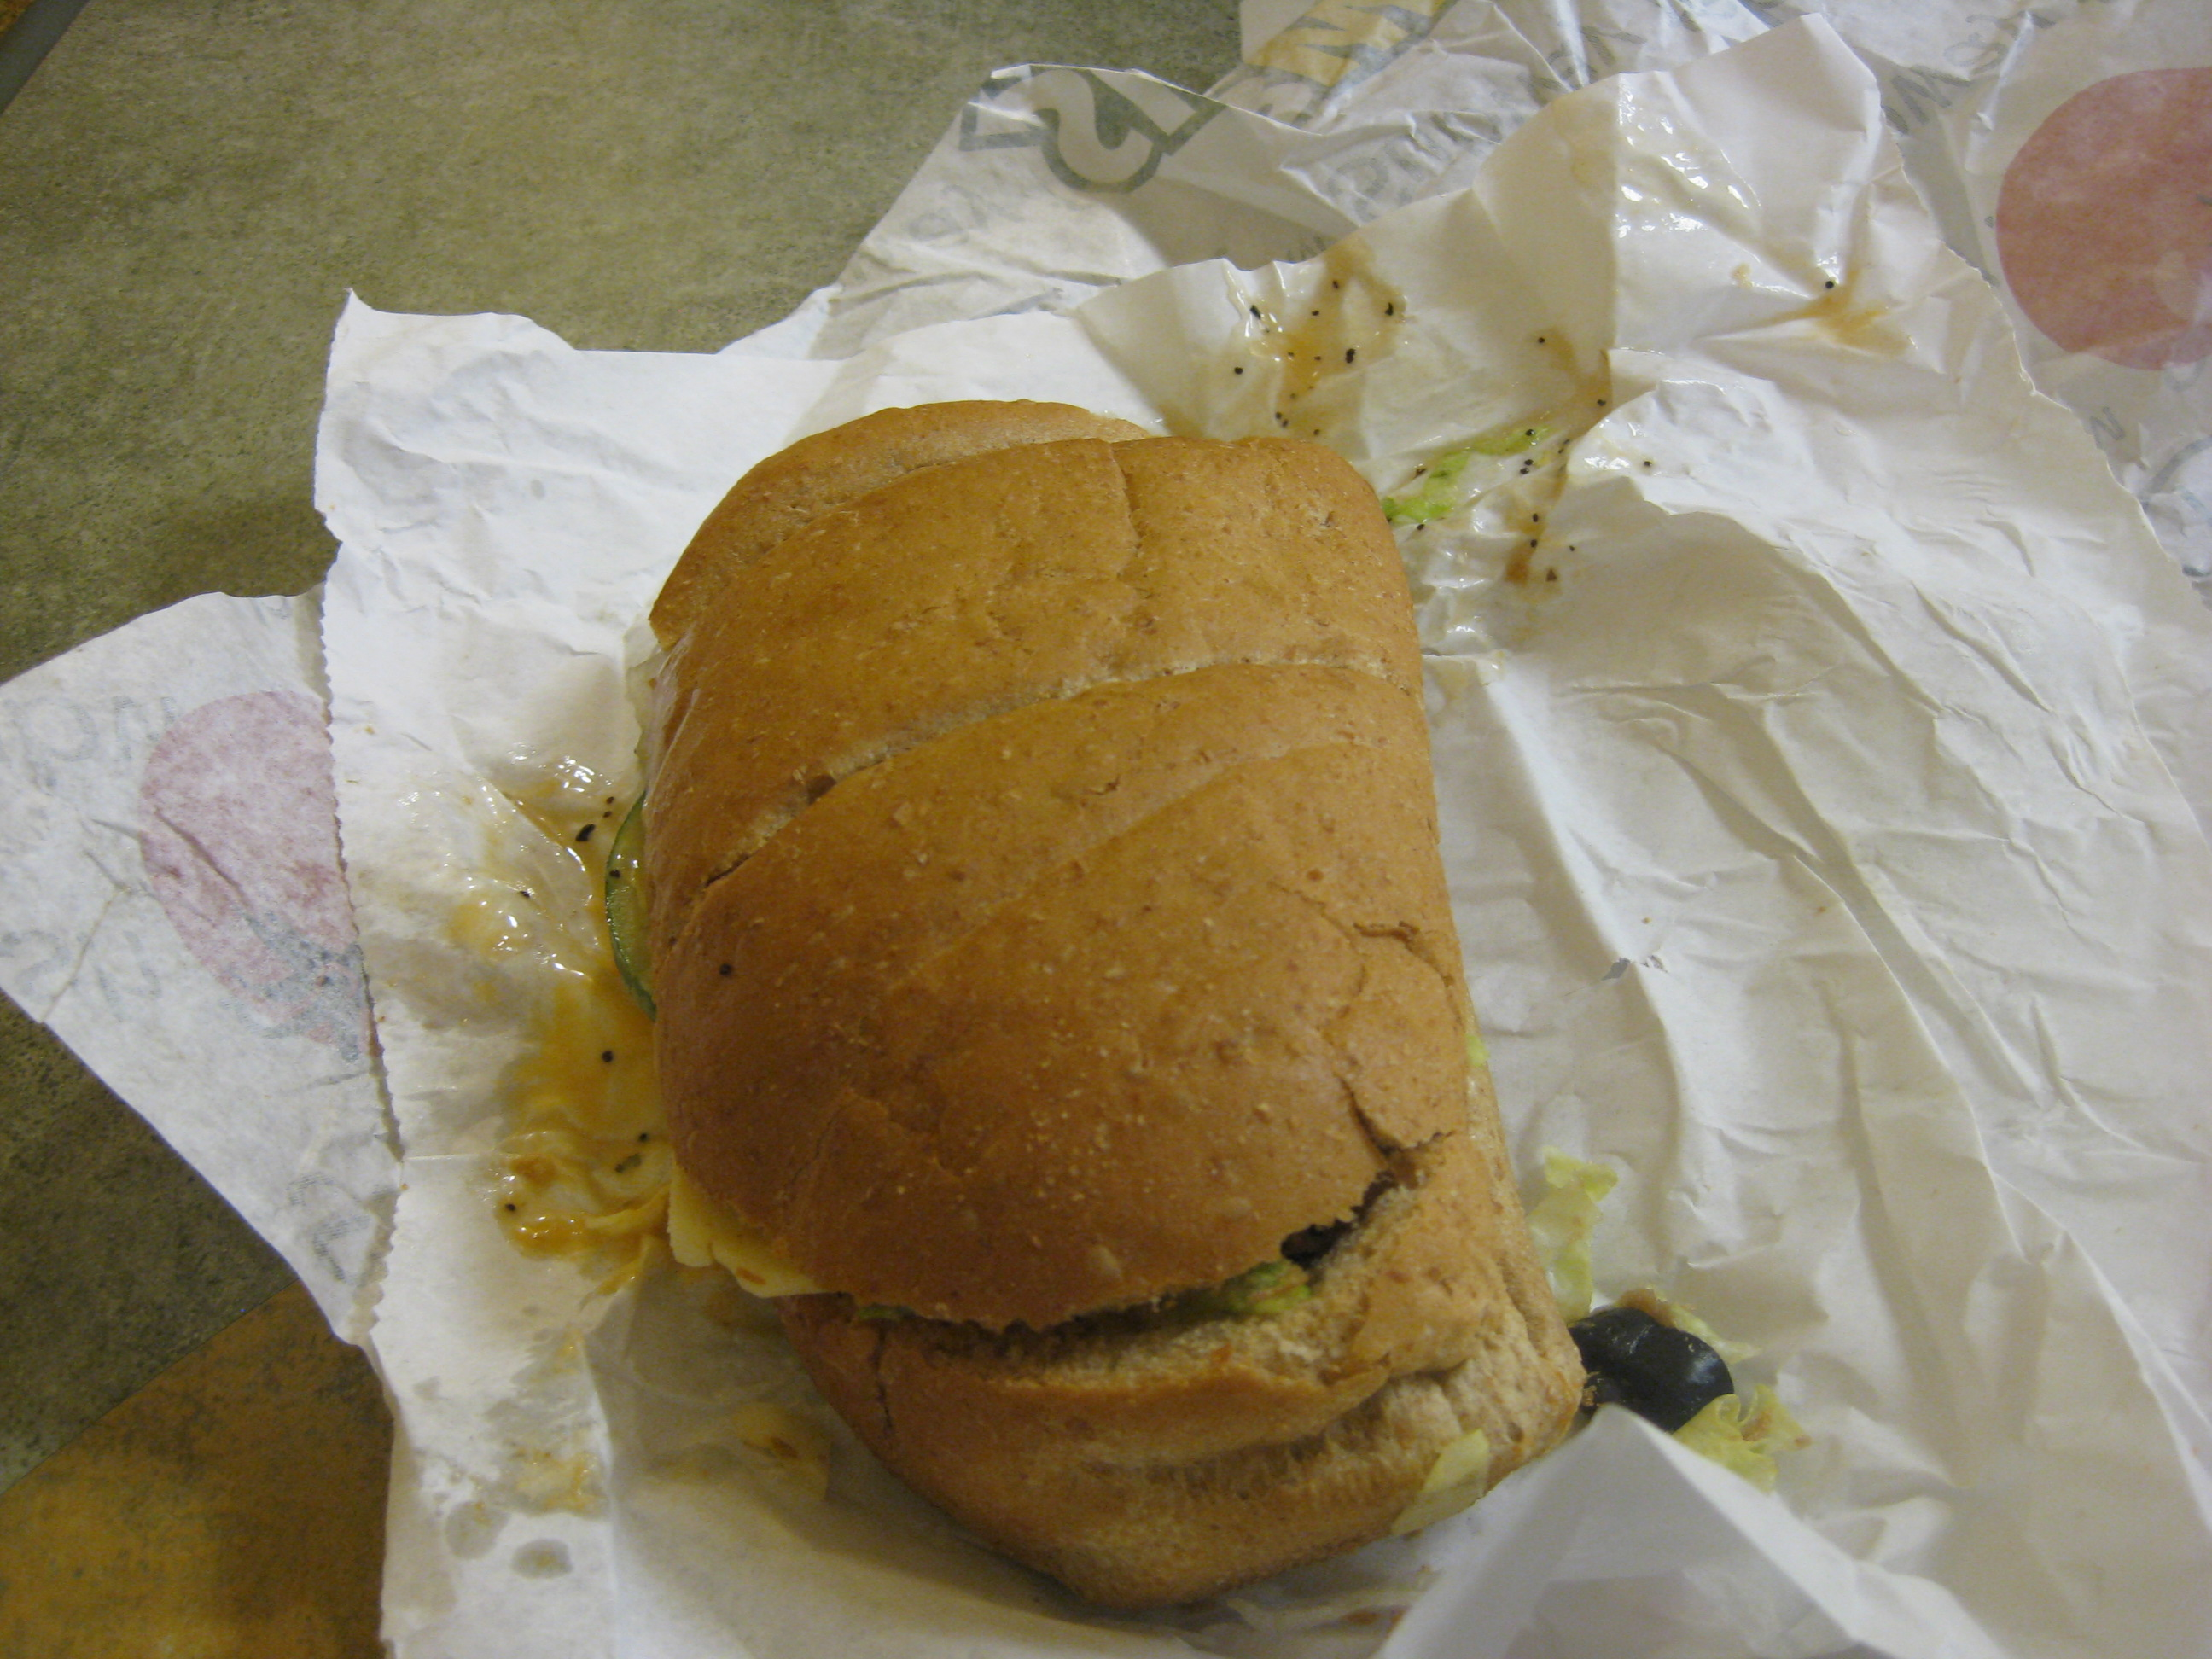sub: (624, 385, 1653, 1599)
